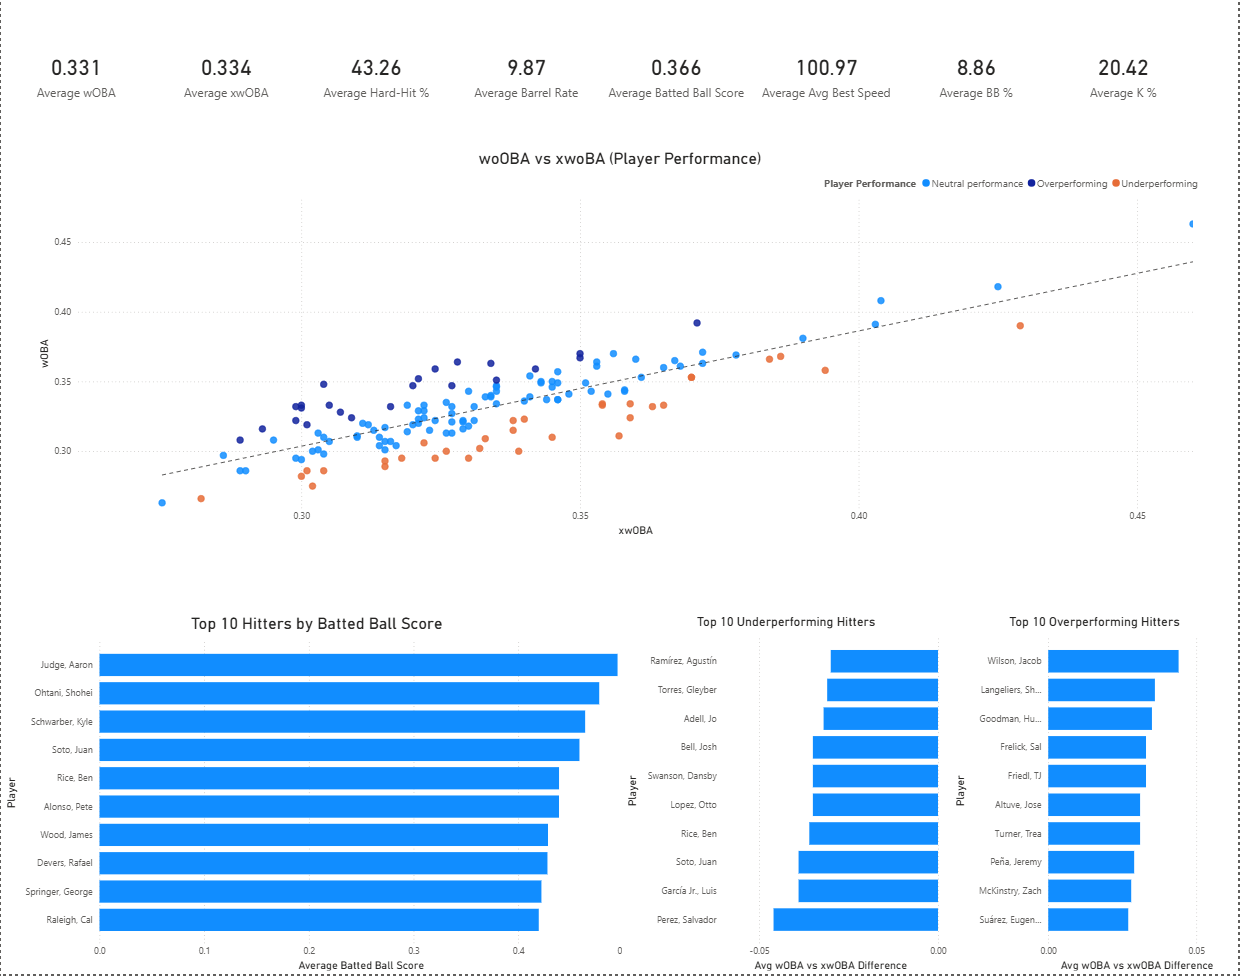

The dashboard page shown, as its layout file describes it:
{"tool":"powerbi","page":{"name":"Page 1","canvas":[1649,1300],"ordinal":0},"visuals":[{"type":"scatterChart","title":"woOBA vs xwoBA (Player Performance)","fields":{"Y":["Sum(public player_analysis.woba)"],"X":["Sum(public player_analysis.xwoba)"],"Series":["public player_analysis.performance"],"Category":["public player_analysis.player_name"]},"box":[44,200,1562,520],"z":0},{"type":"barChart","title":"Top 10 Hitters by Batted Ball Score","fields":{"Category":["public player_analysis.player_name"],"Y":["Avg(public player_analysis.batted_ball_score)"]},"box":[0,820,842,480],"z":1000},{"type":"card","fields":{"Values":["Avg(public player_analysis.woba)"]},"box":[0,0,200,200],"z":2000},{"type":"card","fields":{"Values":["Avg(public player_analysis.xwoba)"]},"box":[200,0,200,200],"z":3000},{"type":"card","fields":{"Values":["Avg(public player_analysis.hard_hit_percent)"]},"box":[400,0,200,200],"z":4000},{"type":"card","fields":{"Values":["Avg(public player_analysis.barrel_batted_rate)"]},"box":[600,0,200,200],"z":5000},{"type":"card","fields":{"Values":["Avg(public player_analysis.batted_ball_score)"]},"box":[800,0,200,200],"z":6000},{"type":"card","fields":{"Values":["Avg(public player_analysis.avg_best_speed)"]},"box":[1000,0,200,200],"z":7000},{"type":"card","fields":{"Values":["Avg(public player_analysis.bb_percent)"]},"box":[1200,0,200,200],"z":8000},{"type":"card","fields":{"Values":["Avg(public player_analysis.k_percent)"]},"box":[1400,0,192,200],"z":9000},{"type":"barChart","title":"Top 10 Underperforming Hitters","fields":{"Category":["public player_analysis.player_name"],"Y":["Avg(public player_analysis.woba_xwoba_diff)"]},"box":[828,820,438,480],"z":10000},{"type":"barChart","title":"Top 10 Overperforming Hitters","fields":{"Category":["public player_analysis.player_name"],"Y":["Avg(public player_analysis.woba_xwoba_diff)"]},"box":[1266,820,384,480],"z":11000}]}

Visuals, with their boxes in screenshot pixels (x1, y1, x2, y2), scaled from the page's 1649x1300 canvas onto the 1240x976 screenshot:
"woOBA vs xwoBA (Player Performance)" scatterChart: locate(33, 150, 1208, 541)
"Top 10 Hitters by Batted Ball Score" barChart: locate(0, 616, 633, 975)
card - Avg(public player_analysis.woba): locate(0, 0, 150, 150)
card - Avg(public player_analysis.xwoba): locate(150, 0, 301, 150)
card - Avg(public player_analysis.hard_hit_percent): locate(301, 0, 451, 150)
card - Avg(public player_analysis.barrel_batted_rate): locate(451, 0, 602, 150)
card - Avg(public player_analysis.batted_ball_score): locate(602, 0, 752, 150)
card - Avg(public player_analysis.avg_best_speed): locate(752, 0, 902, 150)
card - Avg(public player_analysis.bb_percent): locate(902, 0, 1053, 150)
card - Avg(public player_analysis.k_percent): locate(1053, 0, 1197, 150)
"Top 10 Underperforming Hitters" barChart: locate(623, 616, 952, 975)
"Top 10 Overperforming Hitters" barChart: locate(952, 616, 1239, 975)
